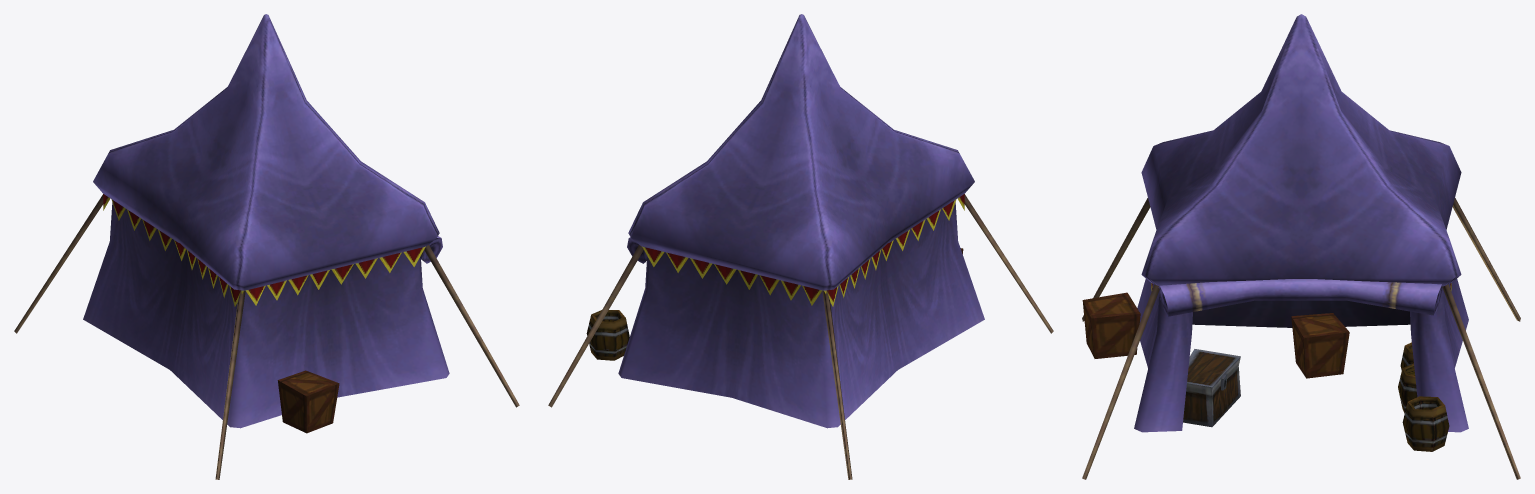
Rendered from tent.fbx.
The picture shows the model from 3 angles, left to right: view 1: azimuth 30°, elevation 25°; view 2: azimuth 150°, elevation 25°; view 3: azimuth 270°, elevation 25°; orthographic projection. The views are drawn at different scales.
Parts seen in each view (by area): view 1: tent; view 2: tent; view 3: tent.
Boxes of the visible parts, box(x1,y1,x2,y2) form: tent: box(14, 14, 519, 479); tent: box(548, 14, 1053, 479); tent: box(1082, 14, 1520, 479).
Size of the model in its own units: 6.17 by 6.9 by 7.12.
